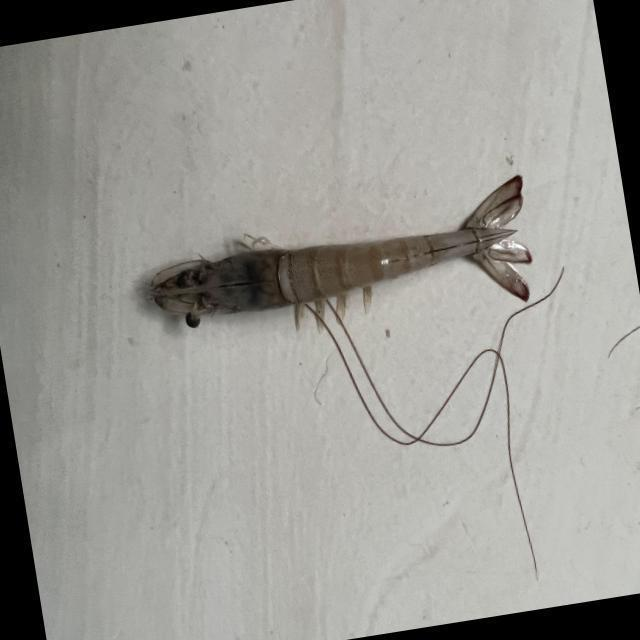shrimp: (151, 177, 532, 319)
